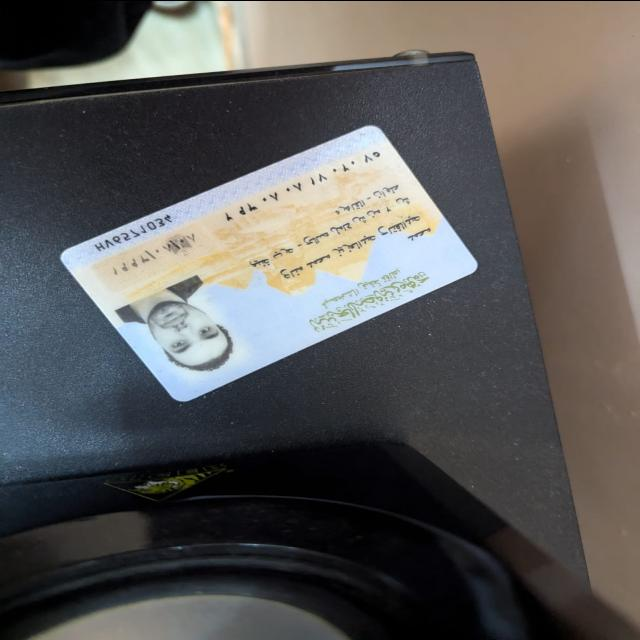ID-cards: (46, 114, 488, 408)
